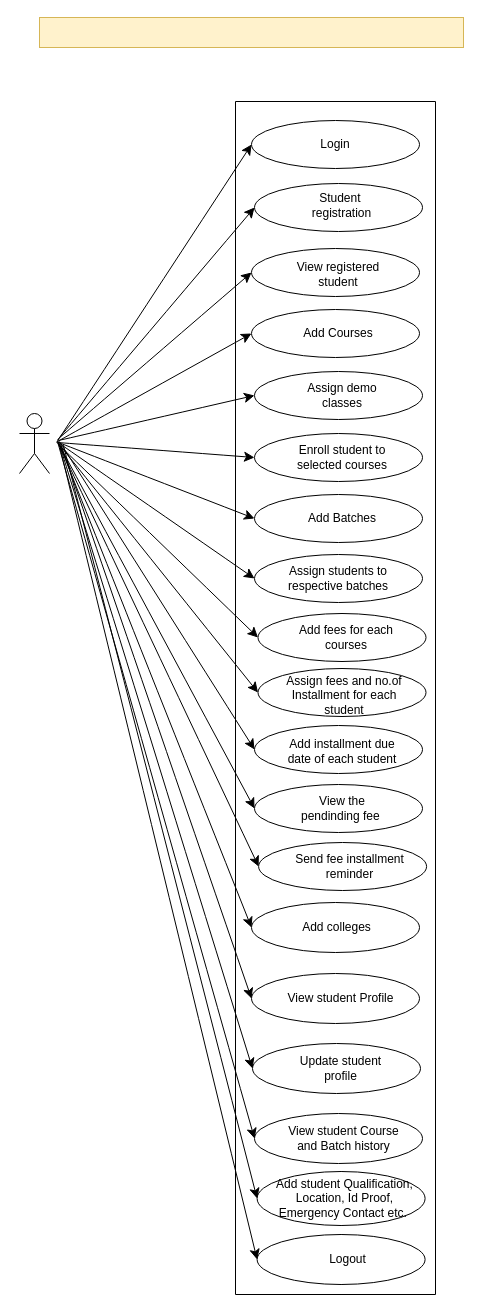
Image size: 481x1312. Some labels were removed from this diagram. The centre of each missing label's shape, as x and y in pixels:
"Admin" goes at point 34,443.
"Student Management System" goes at point 251,32.
